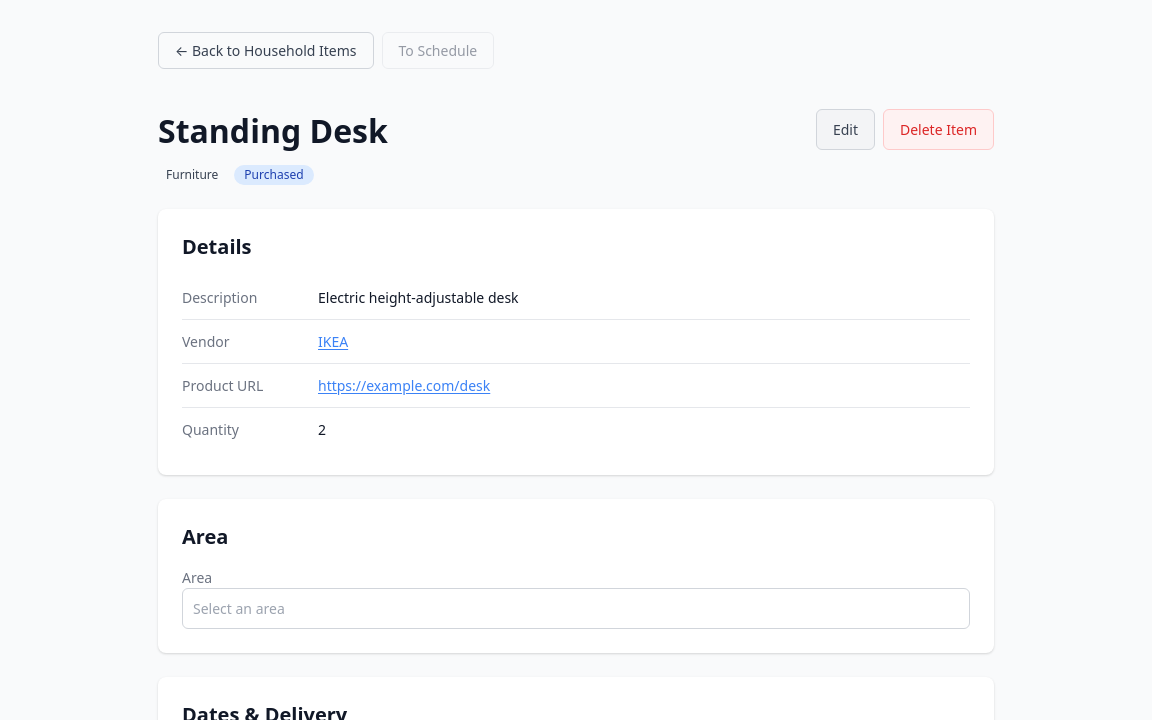
Test: HouseholdItemDetailPage › delete modal cancel › closes delete modal on Escape key
The width and height of the screenshot is (1152, 720).
Click the button "Delete Item" at (938, 130), box [883,109,994,150]
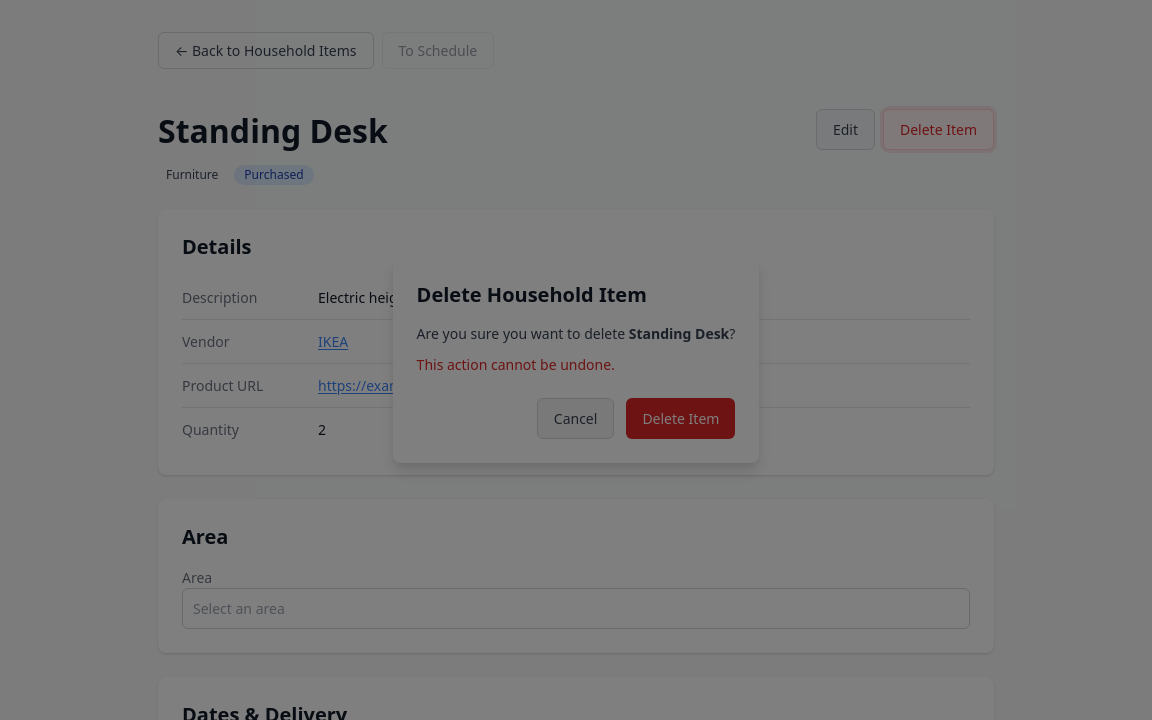
Expected: the dialog is shown
Press Escape
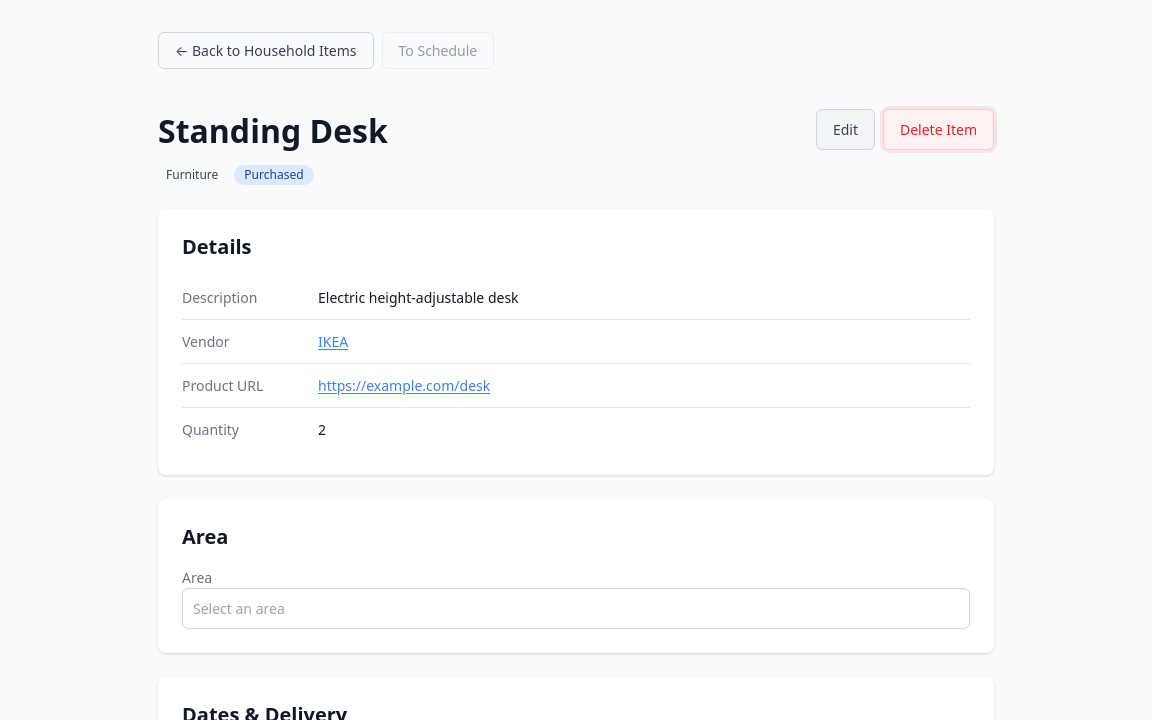
Expected: the dialog is gone
